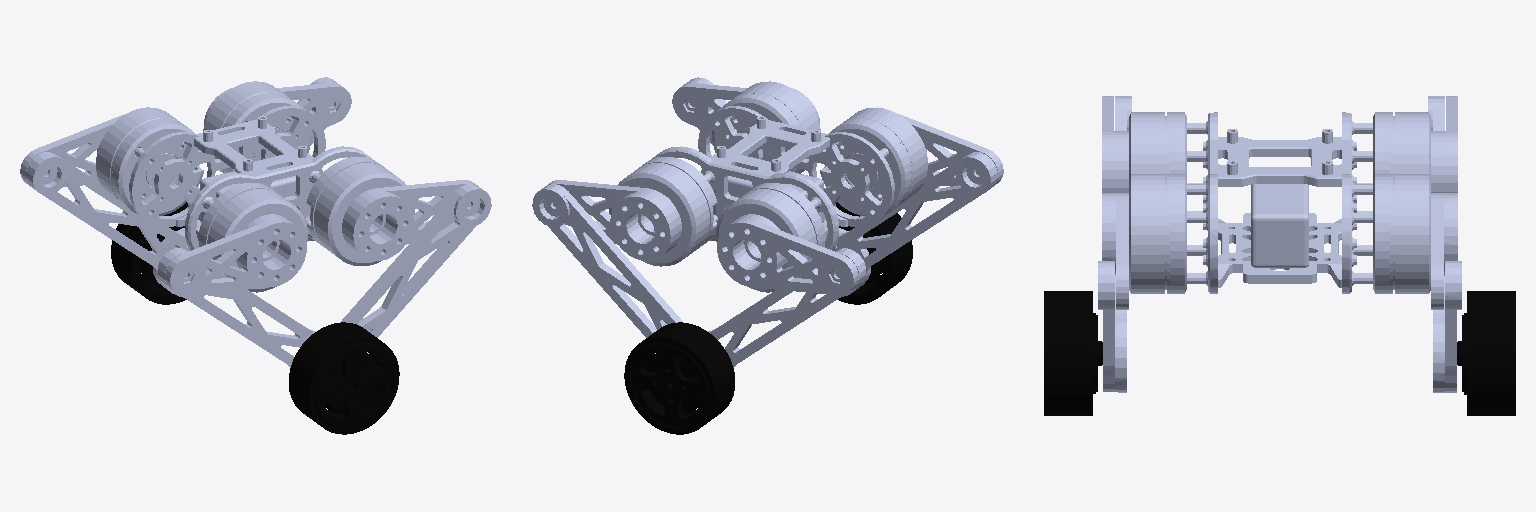
The robot description file, URDF, robot "wheellegv3":
<?xml version="1.0" encoding="utf-8"?>
<!-- This URDF was automatically created by SolidWorks to URDF Exporter! Originally created by Stephen Brawner (brawner@gmail.com) 
     Commit Version: 1.6.0-4-g7f85cfe  Build Version: 1.6.7995.38578
     For more information, please see http://wiki.ros.org/sw_urdf_exporter -->
<robot
  name="wheellegv3">
  <link
    name="base_link">
    <inertial>
      <origin
        xyz="0.00000000 0.00000000 -0.02252514"
        rpy="0 0 0" />
      <mass
        value="0.49424000" />
      <inertia
        ixx="0.00063105"
        ixy="0.00000000"
        ixz="0.00000000"
        iyy="0.00050323"
        iyz="0.00000000"
        izz="0.00097315" />
    </inertial>
    <visual>
      <origin
        xyz="0 0 0"
        rpy="0 0 0" />
      <geometry>
        <mesh
          filename="package://wheellegv3/meshes/base_link.STL" />
      </geometry>
      <material
        name="">
        <color
          rgba="0.79216 0.81961 0.93333 1" />
      </material>
    </visual>
    <collision>
      <origin
        xyz="0 0 -0.02"
        rpy="0 0 0" />
      <geometry>
        <box size="0.12 0.08 0.08" />
      </geometry>
    </collision>
  </link>
  <link
    name="right_forw_link">
    <inertial>
      <origin
        xyz="0.00257660 -0.00903110 0.00000000"
        rpy="0 0 0" />
      <mass
        value="0.05730506" />
      <inertia
        ixx="0.00001109"
        ixy="0.00000130"
        ixz="0.00000000"
        iyy="0.00002134"
        iyz="0.00000000"
        izz="0.00001624" />
    </inertial>
    <visual>
      <origin
        xyz="0 0 0"
        rpy="0 0 0" />
      <geometry>
        <mesh
          filename="package://wheellegv3/meshes/right_forw_link.STL" />
      </geometry>
      <material
        name="">
        <color
          rgba="0.79216 0.81961 0.93333 1" />
      </material>
    </visual>
    <collision>
      <origin
        xyz="0.025 -0.015 0"
        rpy="0 0 0" />
      <geometry>
        <box size="0.08 0.01 0.03" />
      </geometry>
    </collision>
  </link>
  <joint
    name="right_forw_joint"
    type="revolute">
    <origin
      xyz="0.0299999999999996 -0.0465000000000061 -0.0207477149373764"
      rpy="0 0 0" />
    <parent
      link="base_link" />
    <child
      link="right_forw_link" />
    <axis
      xyz="0 1 0" />
    <limit
      lower="-3.14"
      upper="3.14"
      effort="0.49"
      velocity="504" />
    <dynamics
      damping="0.005"
      friction="0" />
  </joint>
  <link
    name="right_forw_p_link">
    <inertial>
      <origin
        xyz="-0.045053 -0.0026109 -0.038298"
        rpy="0 0 0" />
      <mass
        value="0.010927" />
      <inertia
        ixx="7.603E-06"
        ixy="5.4236E-08"
        ixz="-8.2643E-06"
        iyy="1.7867E-05"
        iyz="4.6105E-08"
        izz="1.0317E-05" />
    </inertial>
    <visual>
      <origin
        xyz="0 0 0"
        rpy="0 0 0" />
      <geometry>
        <mesh
          filename="package://wheellegv3/meshes/right_forw_p_link.STL" />
      </geometry>
      <material
        name="">
        <color
          rgba="0.79216 0.81961 0.93333 1" />
      </material>
    </visual>
    <collision>
      <origin
        xyz="-0.03 -0.005 -0.03"
        rpy="0 -0.70454742 0" />
      <geometry>
        <box size="0.13 0.005 0.03" />
      </geometry>
    </collision>
  </link>
  <joint
    name="right_forw_p_joint"
    type="revolute">
    <origin
      xyz="0.0499999999999997 -0.0210000000000049 0"
      rpy="0 0 0" />
    <parent
      link="right_forw_link" />
    <child
      link="right_forw_p_link" />
    <axis
      xyz="0 1 0" />
    <limit
      lower="-3.14"
      upper="3.14"
      effort="0.49"
      velocity="504" />
    <dynamics
      damping="0.005"
      friction="0" />
  </joint>
  <link
    name="right_wheel_link">
    <inertial>
      <origin
        xyz="0.00000000 -0.01761306 0.00000000"
        rpy="0 0 0" />
      <mass
        value="0.05730000" />
      <inertia
        ixx="0.00000907"
        ixy="0.00000000"
        ixz="0.00000000"
        iyy="0.00001408"
        iyz="0.00000000"
        izz="0.00000907" />
    </inertial>
    <visual>
      <origin
        xyz="0 0 0"
        rpy="0 0 0" />
      <geometry>
        <mesh
          filename="package://wheellegv3/meshes/right_wheel_link.STL" />
      </geometry>
      <material
        name="">
        <color
          rgba="0.058824 0.058824 0.058824 1" />
      </material>
    </visual>
    <collision>
      <origin
        xyz="0 -0.019 0"
        rpy="1.57 0 0" />
      <geometry>
        <cylinder radius="0.0255" length="0.02" />
      </geometry>
    </collision>
  </link>
  <joint
    name="right_wheel_joint"
    type="continuous">
    <origin
      xyz="-0.0799999999999986 0 -0.0680073525436785"
      rpy="0 0 0" />
    <parent
      link="right_forw_p_link" />
    <child
      link="right_wheel_link" />
    <axis
      xyz="0 1 0" />
    <limit
      effort="0.03"
      velocity="2600" />
    <dynamics
      damping="0.001"
      friction="0" />
  </joint>
  <link
    name="right_back_link">
    <inertial>
      <origin
        xyz="-0.00257660 -0.00947936 0.00000000"
        rpy="0 0 0" />
      <mass
        value="0.05730506" />
      <inertia
        ixx="0.00001169"
        ixy="-0.00000213"
        ixz="0.00000000"
        iyy="0.00002134"
        iyz="0.00000000"
        izz="0.00001685" />
    </inertial>
    <visual>
      <origin
        xyz="0 0 0"
        rpy="0 0 0" />
      <geometry>
        <mesh
          filename="package://wheellegv3/meshes/right_back_link.STL" />
      </geometry>
      <material
        name="">
        <color
          rgba="0.79216 0.81961 0.93333 1" />
      </material>
    </visual>
    <collision>
      <origin
        xyz="-0.025 -0.025 0"
        rpy="0 0 0" />
      <geometry>
        <box size="0.08 0.005 0.03" />
      </geometry>
    </collision>
  </link>
  <joint
    name="right_back_joint"
    type="revolute">
    <origin
      xyz="-0.03 -0.0465000000000061 -0.0207477149373767"
      rpy="0 0 0" />
    <parent
      link="base_link" />
    <child
      link="right_back_link" />
    <axis
      xyz="0 1 0" />
    <limit
      lower="-3.14"
      upper="3.14"
      effort="0.49"
      velocity="504" />
    <dynamics
      damping="0.005"
      friction="0" />
  </joint>
  <link
    name="right_back_p_link">
    <inertial>
      <origin
        xyz="0.045053 0.0026109 -0.038298"
        rpy="0 0 0" />
      <mass
        value="0.010927" />
      <inertia
        ixx="7.603E-06"
        ixy="5.4236E-08"
        ixz="8.2643E-06"
        iyy="1.7867E-05"
        iyz="-4.6105E-08"
        izz="1.0317E-05" />
    </inertial>
    <visual>
      <origin
        xyz="0 0 0"
        rpy="0 0 0" />
      <geometry>
        <mesh
          filename="package://wheellegv3/meshes/right_back_p_link.STL" />
      </geometry>
      <material
        name="">
        <color
          rgba="0.79216 0.81961 0.93333 1" />
      </material>
    </visual>
    <collision>
      <origin
        xyz="0.03 0.005 -0.03"
        rpy="0 0.70458942 0" />
      <geometry>
        <box size="0.13 0.005 0.03" />
      </geometry>
    </collision>
  </link>
  <joint
    name="right_back_p_joint"
    type="revolute">
    <origin
      xyz="-0.0500000000000002 -0.0210000000000046 0"
      rpy="0 0 0" />
    <parent
      link="right_back_link" />
    <child
      link="right_back_p_link" />
    <axis
      xyz="0 1 0" />
    <limit
      lower="-3.14"
      upper="3.14"
      effort="0.49"
      velocity="504" />
    <dynamics
      damping="0.005"
      friction="0" />
  </joint>
  <link
    name="left_forw_link">
    <inertial>
      <origin
        xyz="0.00257660 0.00903110 0.00000000"
        rpy="0 0 0" />
      <mass
        value="0.05730506" />
      <inertia
        ixx="0.00001109"
        ixy="-0.00000130"
        ixz="0.00000000"
        iyy="0.00002134"
        iyz="0.00000000"
        izz="0.00001624" />
    </inertial>
    <visual>
      <origin
        xyz="0 0 0"
        rpy="0 0 0" />
      <geometry>
        <mesh
          filename="package://wheellegv3/meshes/left_forw_link.STL" />
      </geometry>
      <material
        name="">
        <color
          rgba="0.79216 0.81961 0.93333 1" />
      </material>
    </visual>
    <collision>
      <origin
        xyz="0.025 0.015 0"
        rpy="0 0 0" />
      <geometry>
        <box size="0.08 0.01 0.03" />
      </geometry>
    </collision>
  </link>
  <joint
    name="left_forw_joint"
    type="revolute">
    <origin
      xyz="0.0299999999999997 0.0465000000000062 -0.0207477149373772"
      rpy="0 0 0" />
    <parent
      link="base_link" />
    <child
      link="left_forw_link" />
    <axis
      xyz="0 1 0" />
    <limit
      lower="-3.14"
      upper="3.14"
      effort="0.49"
      velocity="504" />
    <dynamics
      damping="0.005"
      friction="0" />
  </joint>
  <link
    name="left_forw_p_link">
    <inertial>
      <origin
        xyz="-0.045052 0.0026109 -0.038299"
        rpy="0 0 0" />
      <mass
        value="0.010927" />
      <inertia
        ixx="7.62E-06"
        ixy="-5.4235E-08"
        ixz="-8.2671E-06"
        iyy="1.7867E-05"
        iyz="-4.6106E-08"
        izz="1.03E-05" />
    </inertial>
    <visual>
      <origin
        xyz="0 0 0"
        rpy="0 0 0" />
      <geometry>
        <mesh
          filename="package://wheellegv3/meshes/left_forw_p_link.STL" />
      </geometry>
      <material
        name="">
        <color
          rgba="0.79216 0.81961 0.93333 1" />
      </material>
    </visual>
    <collision>
      <origin
        xyz="-0.03 0.005 -0.03"
        rpy="0 -0.70454742 0" />
      <geometry>
        <box size="0.13 0.005 0.03" />
      </geometry>
    </collision>
  </link>
  <joint
    name="left_forw_p_joint"
    type="revolute">
    <origin
      xyz="0.0500000000000001 0.0209999999999993 0"
      rpy="0 0 0" />
    <parent
      link="left_forw_link" />
    <child
      link="left_forw_p_link" />
    <axis
      xyz="0 1 0" />
    <limit
      lower="-3.14"
      upper="3.14"
      effort="0.49"
      velocity="504" />
    <dynamics
      damping="0.005"
      friction="0" />
  </joint>
  <link
    name="left_wheel_link">
    <inertial>
      <origin
        xyz="0.00000000 0.01761306 0.00000000"
        rpy="0 0 0" />
      <mass
        value="0.05730000" />
      <inertia
        ixx="0.00000907"
        ixy="0.00000000"
        ixz="0.00000000"
        iyy="0.00001408"
        iyz="0.00000000"
        izz="0.00000907" />
    </inertial>
    <visual>
      <origin
        xyz="0 0 0"
        rpy="0 0 0" />
      <geometry>
        <mesh
          filename="package://wheellegv3/meshes/left_wheel_link.STL" />
      </geometry>
      <material
        name="">
        <color
          rgba="0.058824 0.058824 0.058824 1" />
      </material>
    </visual>
    <collision>
      <origin
        xyz="0 0.019 0"
        rpy="1.57 0 0" />
      <geometry>
        <cylinder radius="0.0255" length="0.02" />
      </geometry>
    </collision>
  </link>
  <joint
    name="left_wheel_joint"
    type="continuous">
    <origin
      xyz="-0.08 0 -0.068007"
      rpy="0 0 0" />
    <parent
      link="left_forw_p_link" />
    <child
      link="left_wheel_link" />
    <axis
      xyz="0 1 0" />
    <limit
      effort="0.03"
      velocity="2600" />
    <dynamics
      damping="0.001"
      friction="0" />
  </joint>
  <link
    name="left_back_link">
    <inertial>
      <origin
        xyz="-0.00257660 0.00947936 0.00000000"
        rpy="0 0 0" />
      <mass
        value="0.05730506" />
      <inertia
        ixx="0.00001169"
        ixy="0.00000213"
        ixz="0.00000000"
        iyy="0.00002134"
        iyz="0.00000000"
        izz="0.00001685" />
    </inertial>
    <visual>
      <origin
        xyz="0 0 0"
        rpy="0 0 0" />
      <geometry>
        <mesh
          filename="package://wheellegv3/meshes/left_back_link.STL" />
      </geometry>
      <material
        name="">
        <color
          rgba="0.79216 0.81961 0.93333 1" />
      </material>
    </visual>
    <collision>
      <origin
        xyz="-0.025 0.025 0"
        rpy="0 0 0" />
      <geometry>
        <box size="0.08 0.005 0.03" />
      </geometry>
    </collision>
  </link>
  <joint
    name="left_back_joint"
    type="revolute">
    <origin
      xyz="-0.03 0.0465 -0.020748"
      rpy="0 0 0" />
    <parent
      link="base_link" />
    <child
      link="left_back_link" />
    <axis
      xyz="0 1 0" />
    <limit
      lower="-3.14"
      upper="3.14"
      effort="0.49"
      velocity="504" />
    <dynamics
      damping="0.005"
      friction="0" />
  </joint>
  <link
    name="left_back_p_link">
    <inertial>
      <origin
        xyz="0.045052 -0.0026109 -0.038299"
        rpy="0 0 0" />
      <mass
        value="0.010927" />
      <inertia
        ixx="7.62E-06"
        ixy="-5.4235E-08"
        ixz="8.2671E-06"
        iyy="1.7867E-05"
        iyz="4.6106E-08"
        izz="1.03E-05" />
    </inertial>
    <visual>
      <origin
        xyz="0 0 0"
        rpy="0 0 0" />
      <geometry>
        <mesh
          filename="package://wheellegv3/meshes/left_back_p_link.STL" />
      </geometry>
      <material
        name="">
        <color
          rgba="0.79216 0.81961 0.93333 1" />
      </material>
    </visual>
    <collision>
      <origin
        xyz="0.03 -0.005 -0.03"
        rpy="0 0.70458942 0" />
      <geometry>
        <box size="0.13 0.005 0.03" />
      </geometry>
    </collision>
  </link>
  <joint
    name="left_back_p_joint"
    type="revolute">
    <origin
      xyz="-0.0500000000000008 0.0210000000000049 0"
      rpy="0 0 0" />
    <parent
      link="left_back_link" />
    <child
      link="left_back_p_link" />
    <axis
      xyz="0 1 0" />
    <limit
      lower="-3.14"
      upper="3.14"
      effort="0.49"
      velocity="504" />
    <dynamics
      damping="0.005"
      friction="0" />
  </joint>
</robot>

--- Render facts (derived) ---
Views: 3 orthographic renders of the robot side by side, from view 1: azimuth 30°, elevation 25°; view 2: azimuth 150°, elevation 25°; view 3: azimuth 270°, elevation 25°.
Model wheellegv3 with 11 links and 10 joints (8 revolute, 2 continuous), rooted at base_link, posed every joint at zero.
Links seen in each view (by area): view 1: base_link, right_back_link, right_forw_link, right_wheel_link, right_forw_p_link, left_back_p_link, left_back_link, right_back_p_link, left_forw_link, left_wheel_link; view 2: base_link, left_back_link, left_forw_link, left_wheel_link, left_forw_p_link, right_back_p_link, right_back_link, left_back_p_link, right_forw_link, right_wheel_link; view 3: base_link, left_forw_link, right_forw_link, left_wheel_link, right_wheel_link, right_back_link, left_back_link, left_forw_p_link, right_forw_p_link, left_back_p_link, right_back_p_link.
Boxes of the visible links, box(x1,y1,x2,y2) form: base_link: box(112, 93, 383, 250); right_back_link: box(165, 187, 307, 295); right_forw_link: box(311, 161, 477, 265); right_wheel_link: box(289, 322, 399, 434); right_forw_p_link: box(340, 184, 491, 337); left_back_p_link: box(26, 152, 198, 296); left_back_link: box(20, 107, 197, 204); right_back_p_link: box(158, 248, 316, 367); left_forw_link: box(203, 81, 351, 173); left_wheel_link: box(111, 202, 187, 304); base_link: box(643, 94, 911, 250); left_back_link: box(716, 187, 858, 295); left_forw_link: box(548, 161, 712, 266); left_wheel_link: box(624, 322, 734, 434); left_forw_p_link: box(532, 184, 683, 337); right_back_p_link: box(825, 152, 997, 296); right_back_link: box(826, 107, 1003, 202); left_back_p_link: box(707, 248, 865, 367); right_forw_link: box(672, 81, 820, 173); right_wheel_link: box(836, 202, 912, 304); base_link: box(1170, 112, 1389, 293); left_forw_link: box(1390, 174, 1457, 309); right_forw_link: box(1102, 174, 1169, 309); left_wheel_link: box(1457, 291, 1515, 415); right_wheel_link: box(1044, 291, 1102, 415); right_back_link: box(1102, 96, 1169, 192); left_back_link: box(1390, 96, 1457, 192); left_forw_p_link: box(1445, 261, 1461, 392); right_forw_p_link: box(1098, 261, 1114, 391); left_back_p_link: box(1428, 96, 1444, 392); right_back_p_link: box(1115, 96, 1131, 392).
Size in the robot's own frame: 0.18 by 0.193 by 0.119 metres.
11 mesh visuals loaded from 11 distinct referenced files (11 binary STL).
